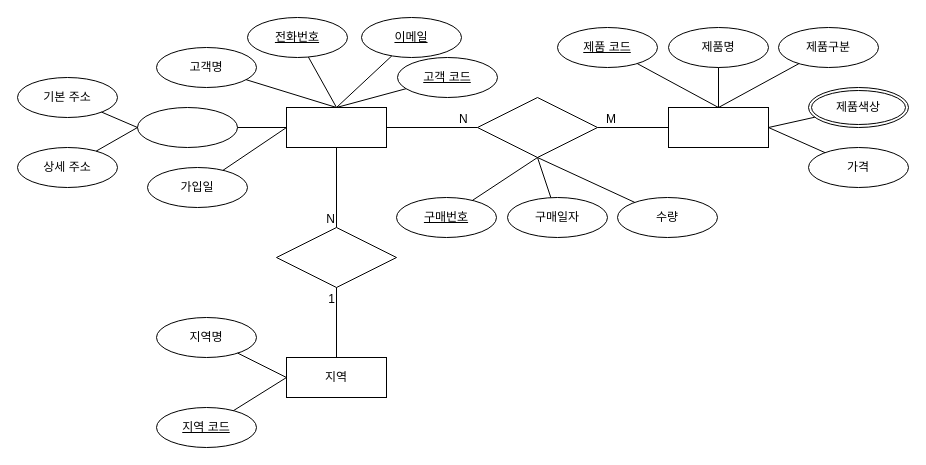
The diagram is 926 pixels wide and 465 high, and some of its shapes have lost their labels. The shapes that lost their labels are listed below. From the top down, each one's centre as x and y in pixels, then its label:
At (187,127): "주소".
At (336,127): "고객".
At (537,127): "구매".
At (718,127): "제품".
At (336,257): "관리".
